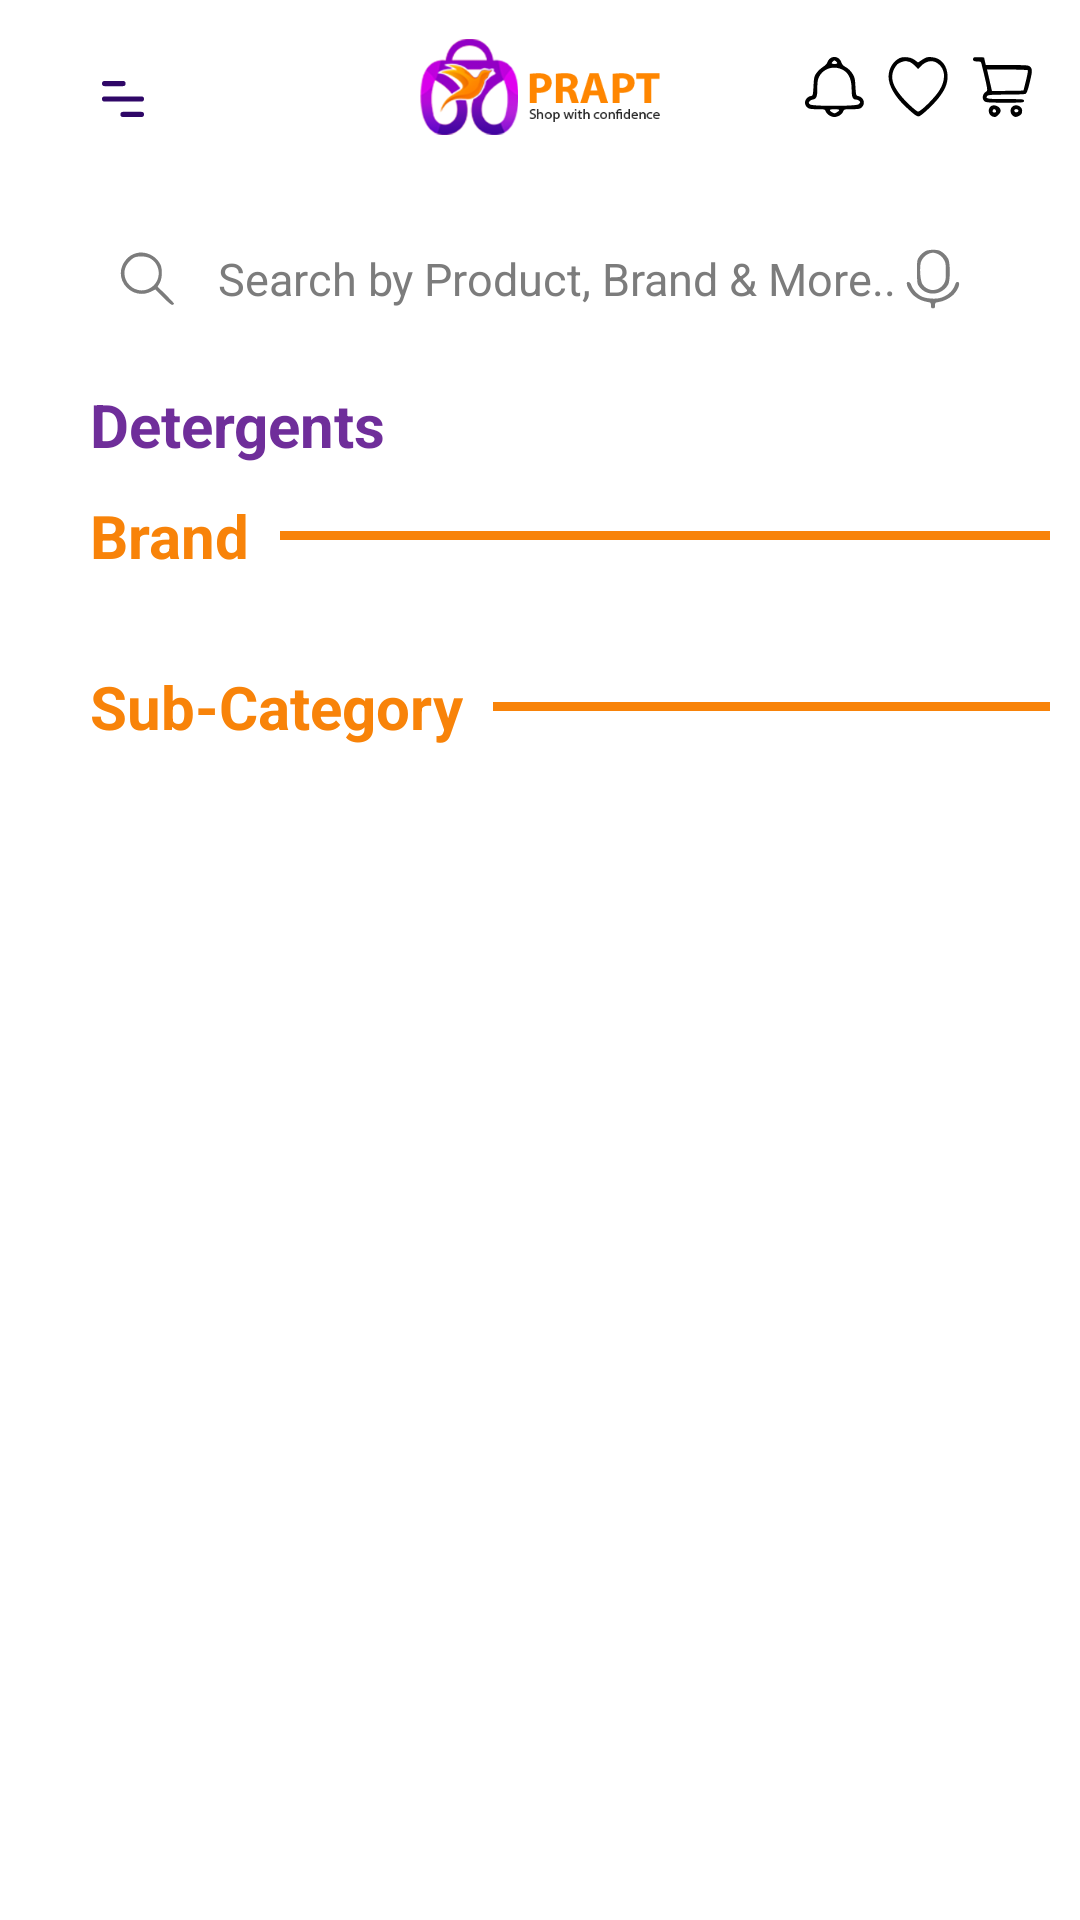

Icons on this 1080px x 1920px Android screen, each with its box as (x1, y1, x2, y2):
home cart: (973, 57, 1032, 117)
home heart: (888, 57, 948, 117)
home notification: (805, 57, 864, 117)
nav: (102, 81, 144, 117)
